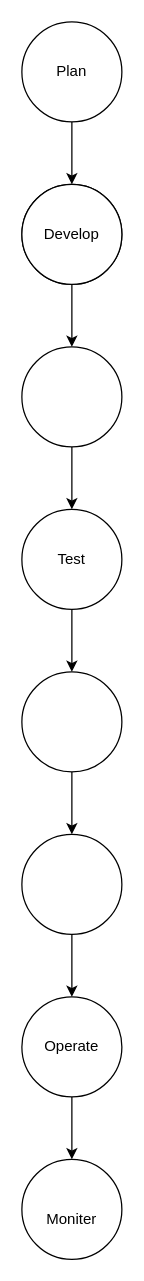
This 144x1281 diagram has some shape labels left out. Each missing label, with the centre of its shape:
Build: point (71, 396)
Depoly: point (71, 883)
Release: point (71, 721)
